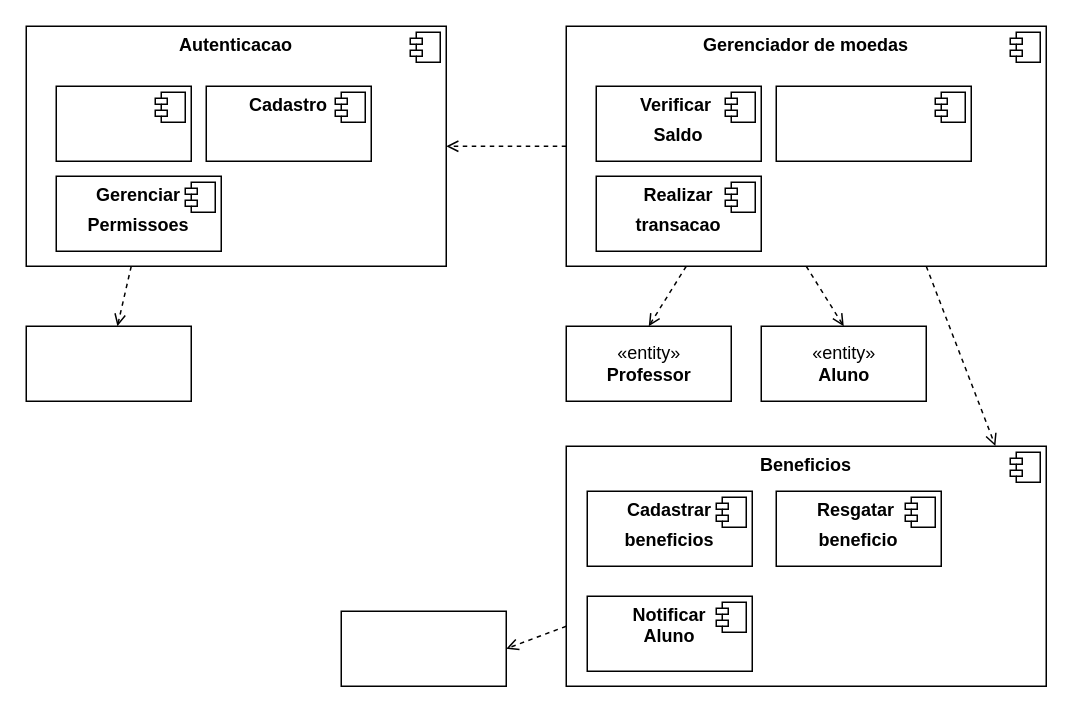
This 1073x713 diagram has some shape labels left out. Each missing label, with the centre of its shape:
Historico de transacoes: the point at 873,123
Login: the point at 123,123
«entity» Empresa: the point at 423,648
«entity» Usuario: the point at 108,363
